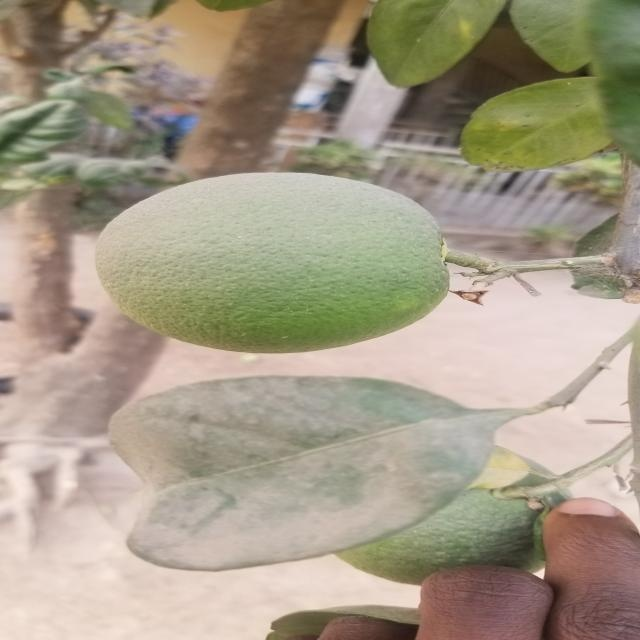agrume: (107, 176, 450, 351)
